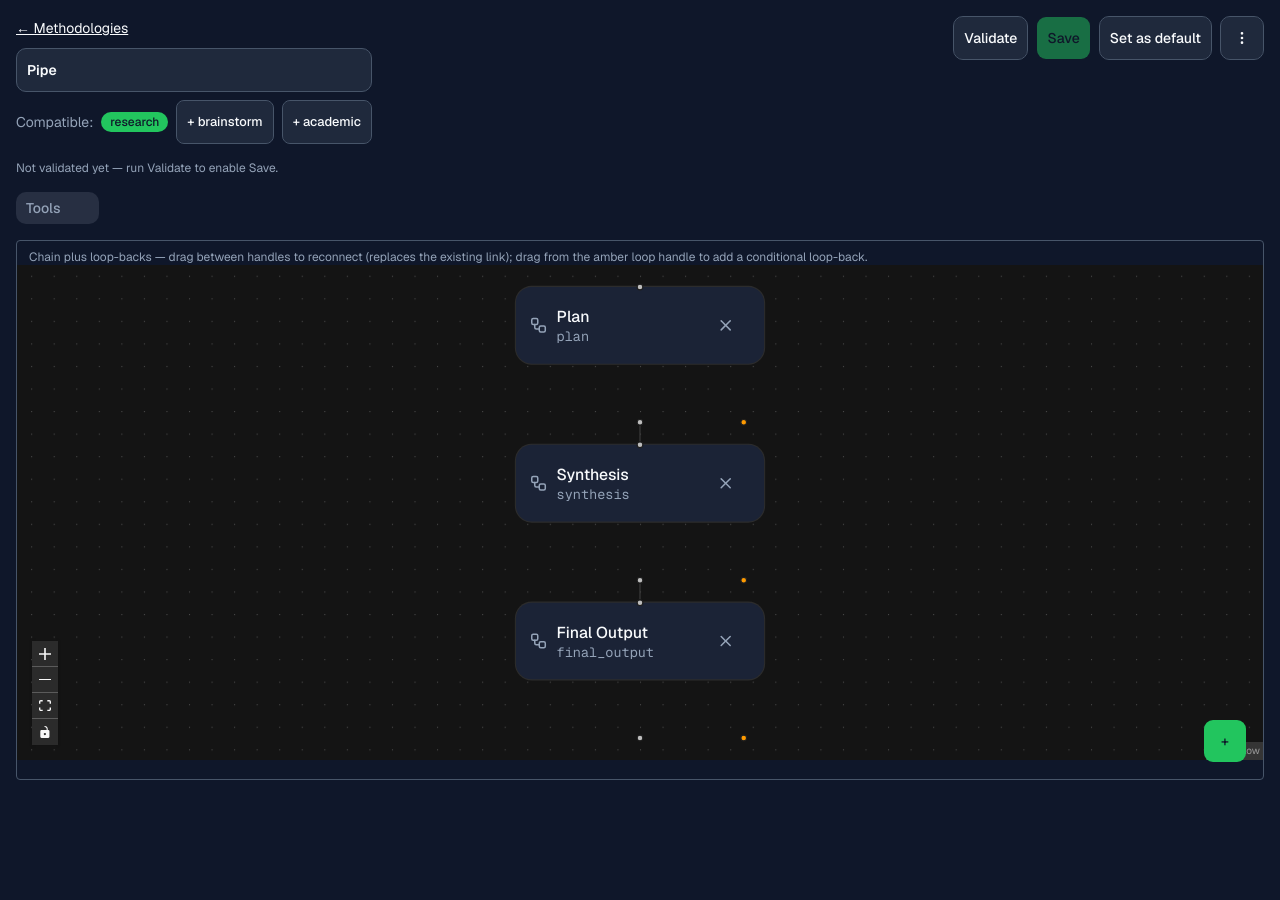
Test: BuilderPage roles and code › palette lists library roles and discovered code
The image size is (1280, 900).
Expected: the element with test id "stage-card-plan" is shown, [516, 287, 764, 364]
Click the button named "Add node" at (1225, 741), box [1203, 719, 1247, 763]
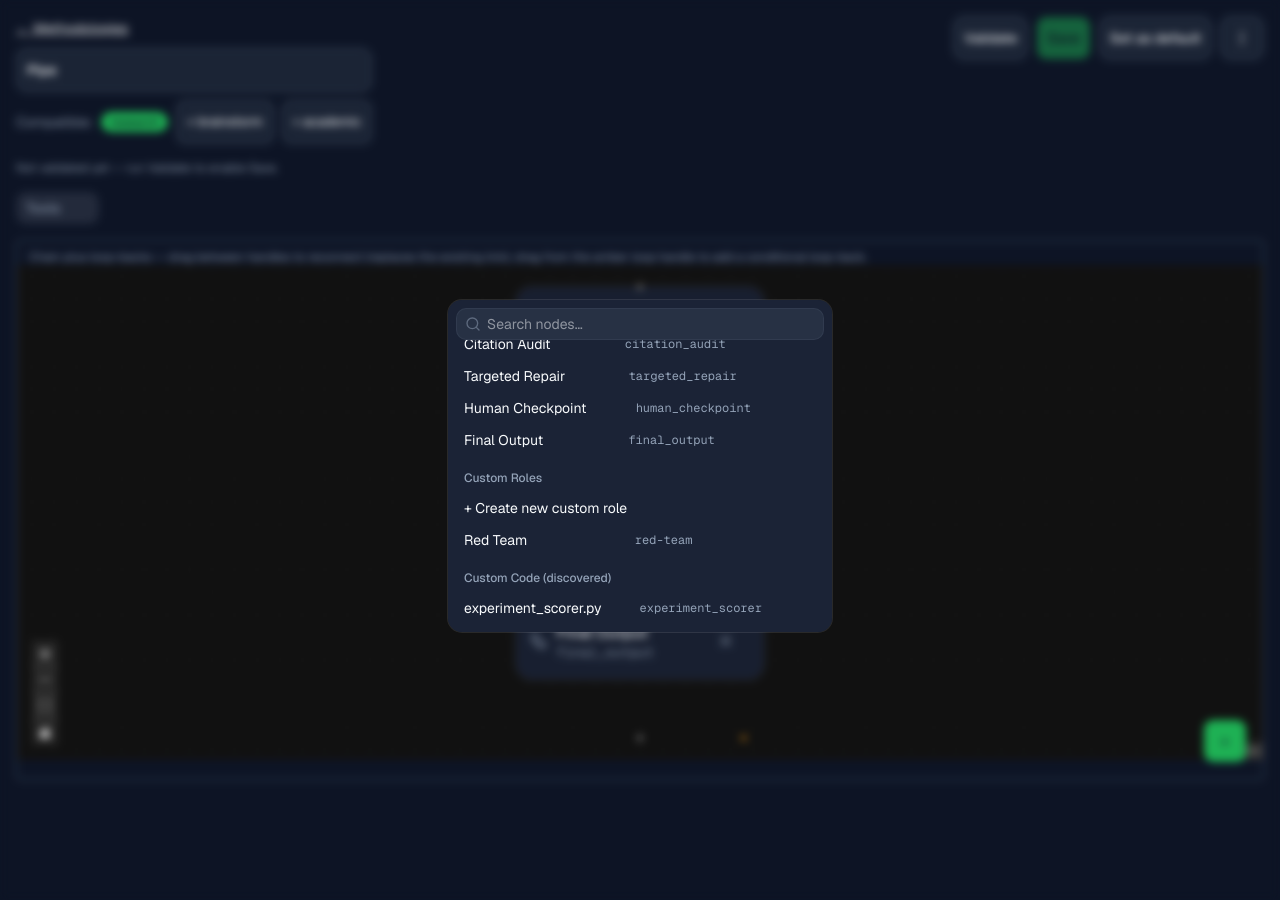
Expected: the option "Red Team red-team" is shown, [464, 531, 692, 549]
Expected: the option "experiment_scorer.py experiment_scorer" is shown, [464, 599, 762, 617]
Expected: the option "+ Create new custom role" is shown, [464, 499, 627, 517]
